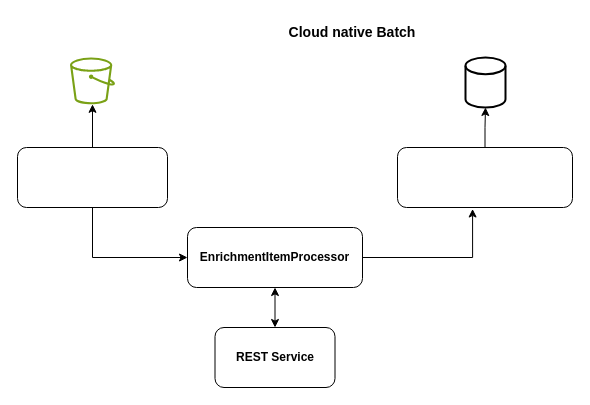
The diagram is 590 pixels wide and 405 high, and some of its shapes have lost their labels. The centre of each missing label's shape, as x and y in pixels:
"FlatFileItemReader" belongs at [92,177].
"JdbcBatchItemWriter" belongs at [484,177].
